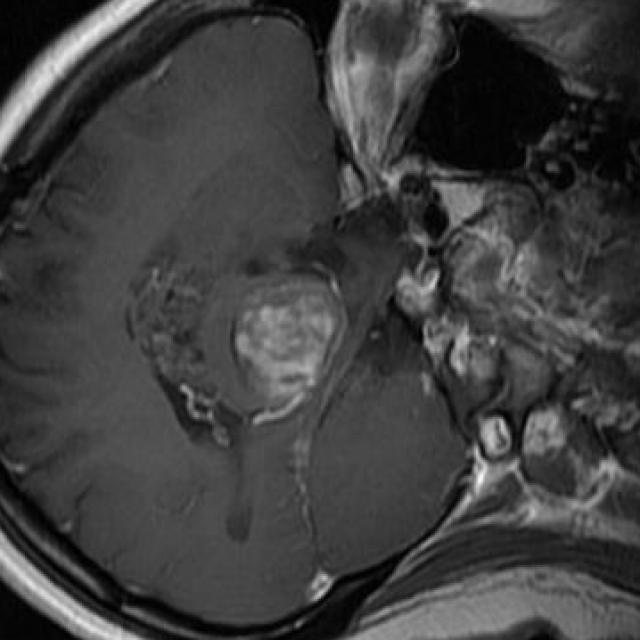glioma: (134, 260, 348, 449)
